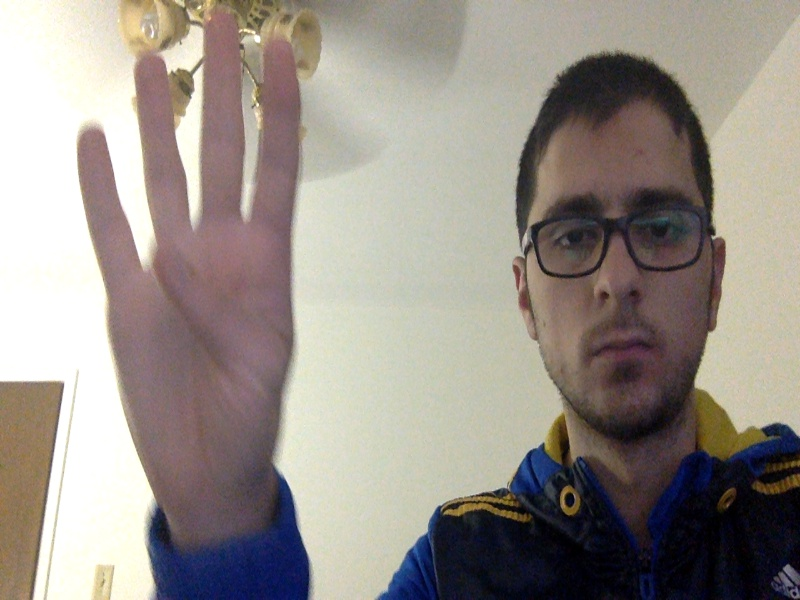4-hand: (76, 8, 295, 524)
